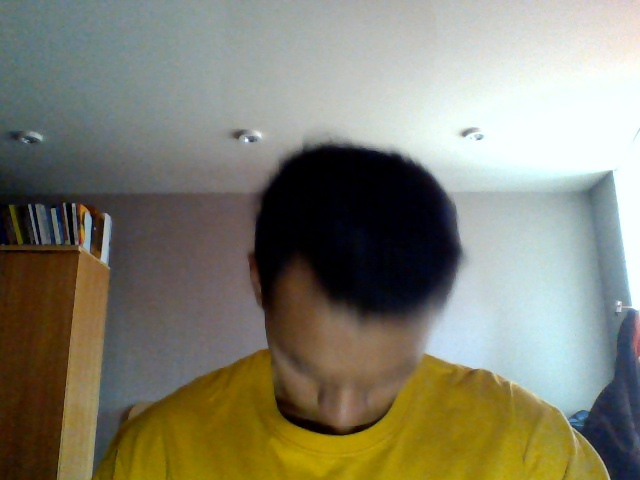no_mask: (280, 379, 432, 444)
